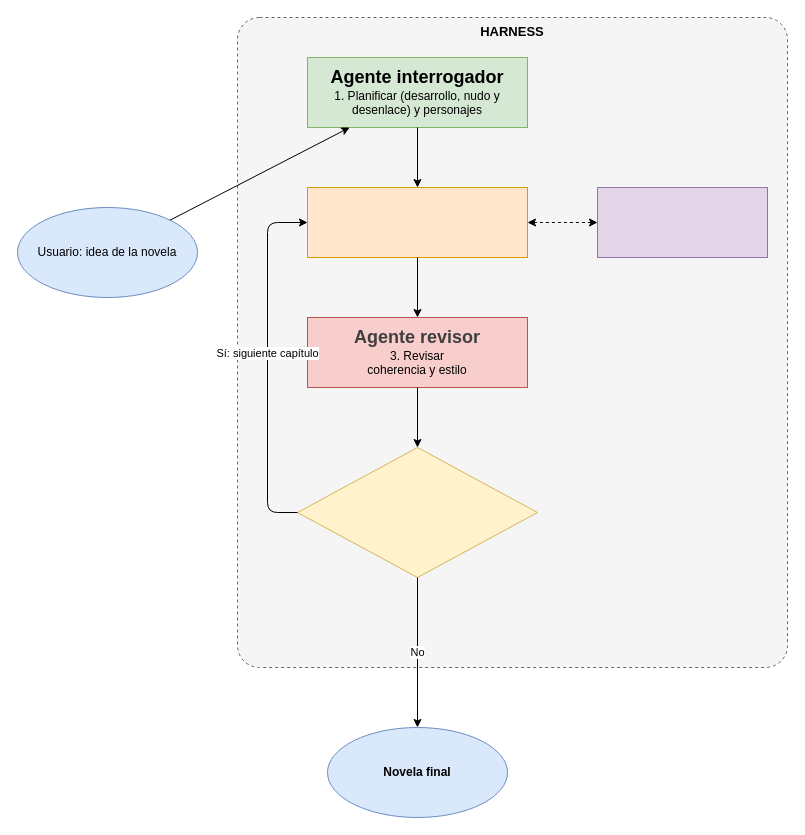
Image size: 805x835. Some labels were removed from this diagram. Here are the shapes that lost their labels. From the top down, the box of each, then its label:
(306, 186, 528, 258): Agente escritor 2. Escribir capítulo N (agente LLM)
(596, 186, 768, 258): Herramientas manuscrito + memoria
(296, 446, 538, 578): ¿Quedan capítulos ?
